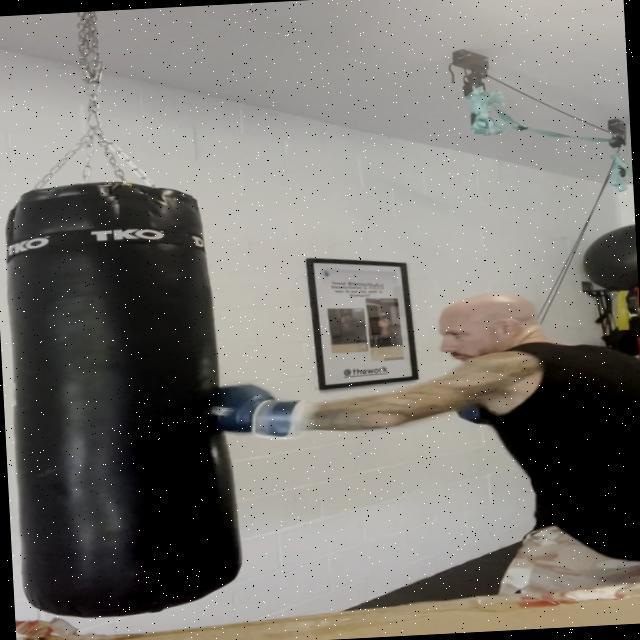bag: (0, 170, 276, 620)
jab: (206, 285, 628, 456)
